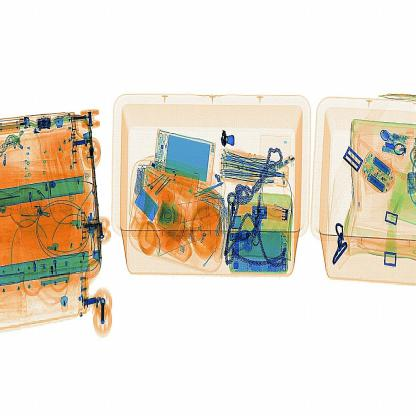wrench: (221, 126, 244, 156)
